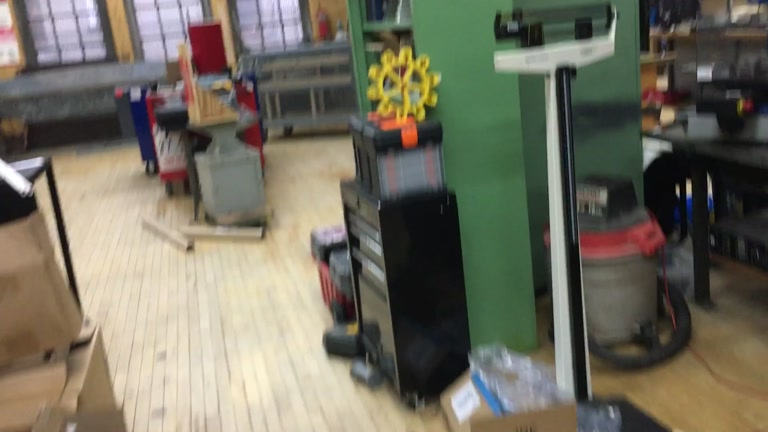gear: (366, 45, 443, 123)
